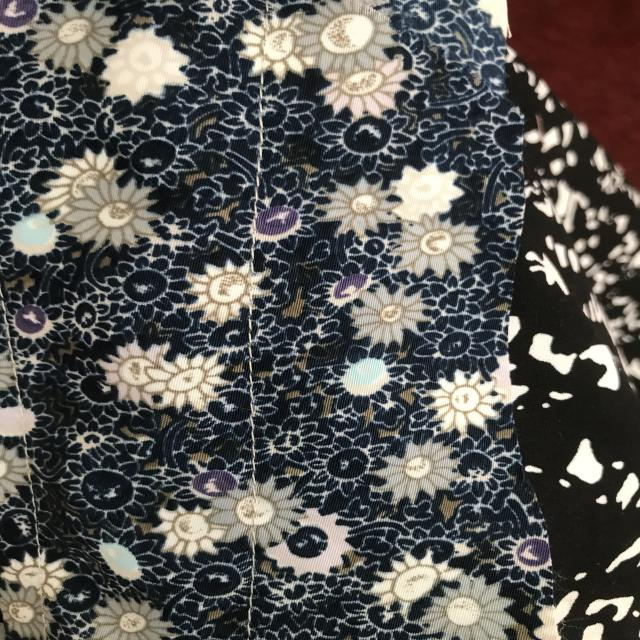good: (235, 319, 273, 466), (240, 88, 266, 191)
